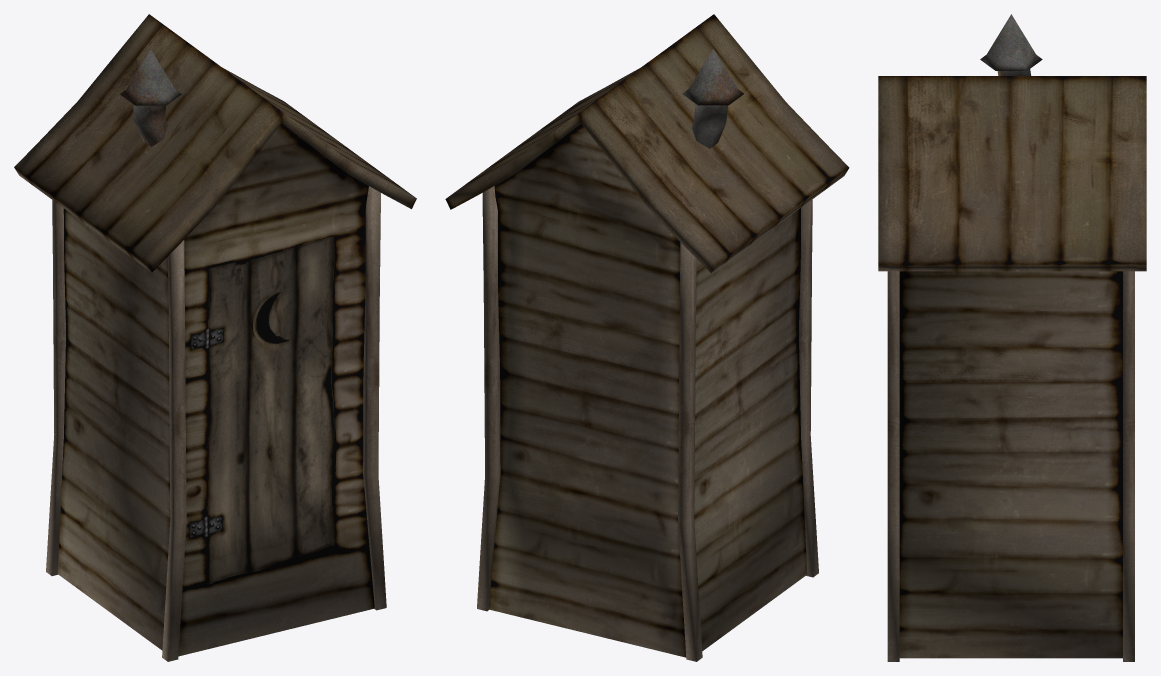
Rendered from Outhouse.fbx.
3 views of the same model, side by side, from view 1: azimuth 30°, elevation 25°; view 2: azimuth 150°, elevation 25°; view 3: azimuth 270°, elevation 25° (orthographic).
Parts seen in each view (by area): view 1: Cube; view 2: Cube; view 3: Cube.
Part boxes in pixels (box(x1,y1,x2,y2)): Cube: box(14, 14, 416, 661); Cube: box(445, 14, 849, 661); Cube: box(878, 14, 1146, 661).
Size of the model in its own units: 5.22 by 10.29 by 4.45.
